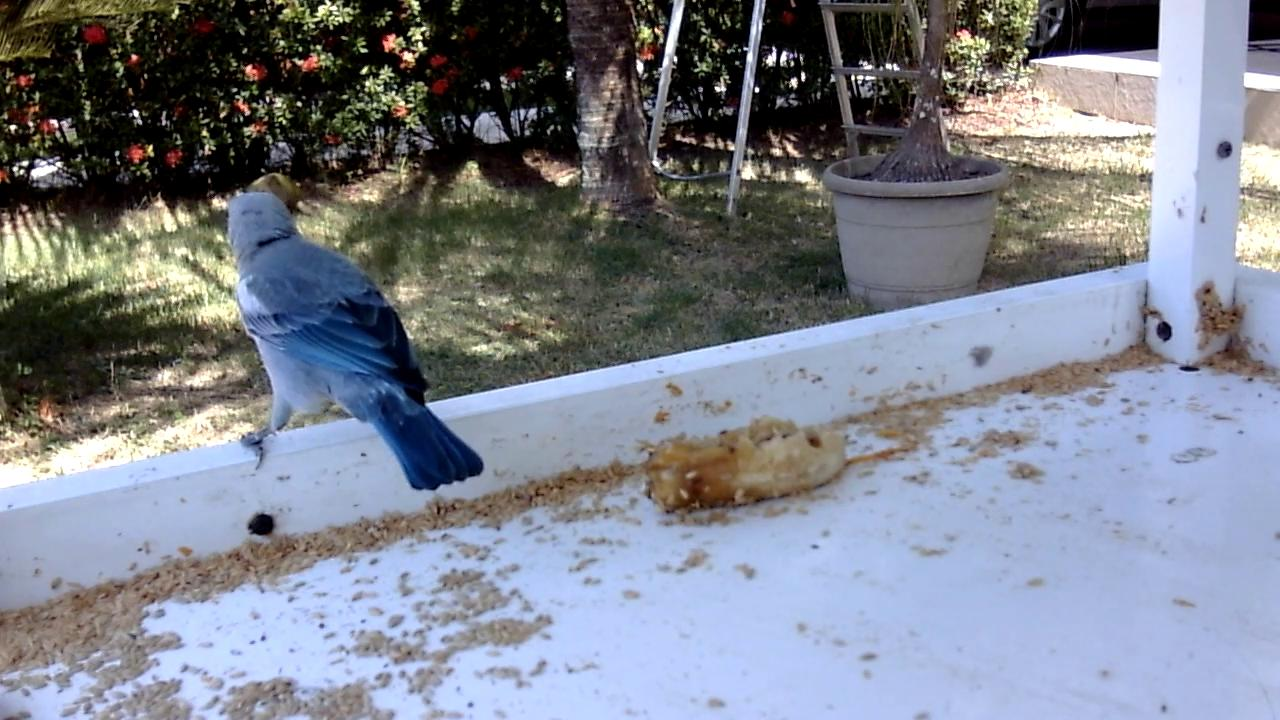sanhaco_da_amazonia: (221, 191, 487, 495)
